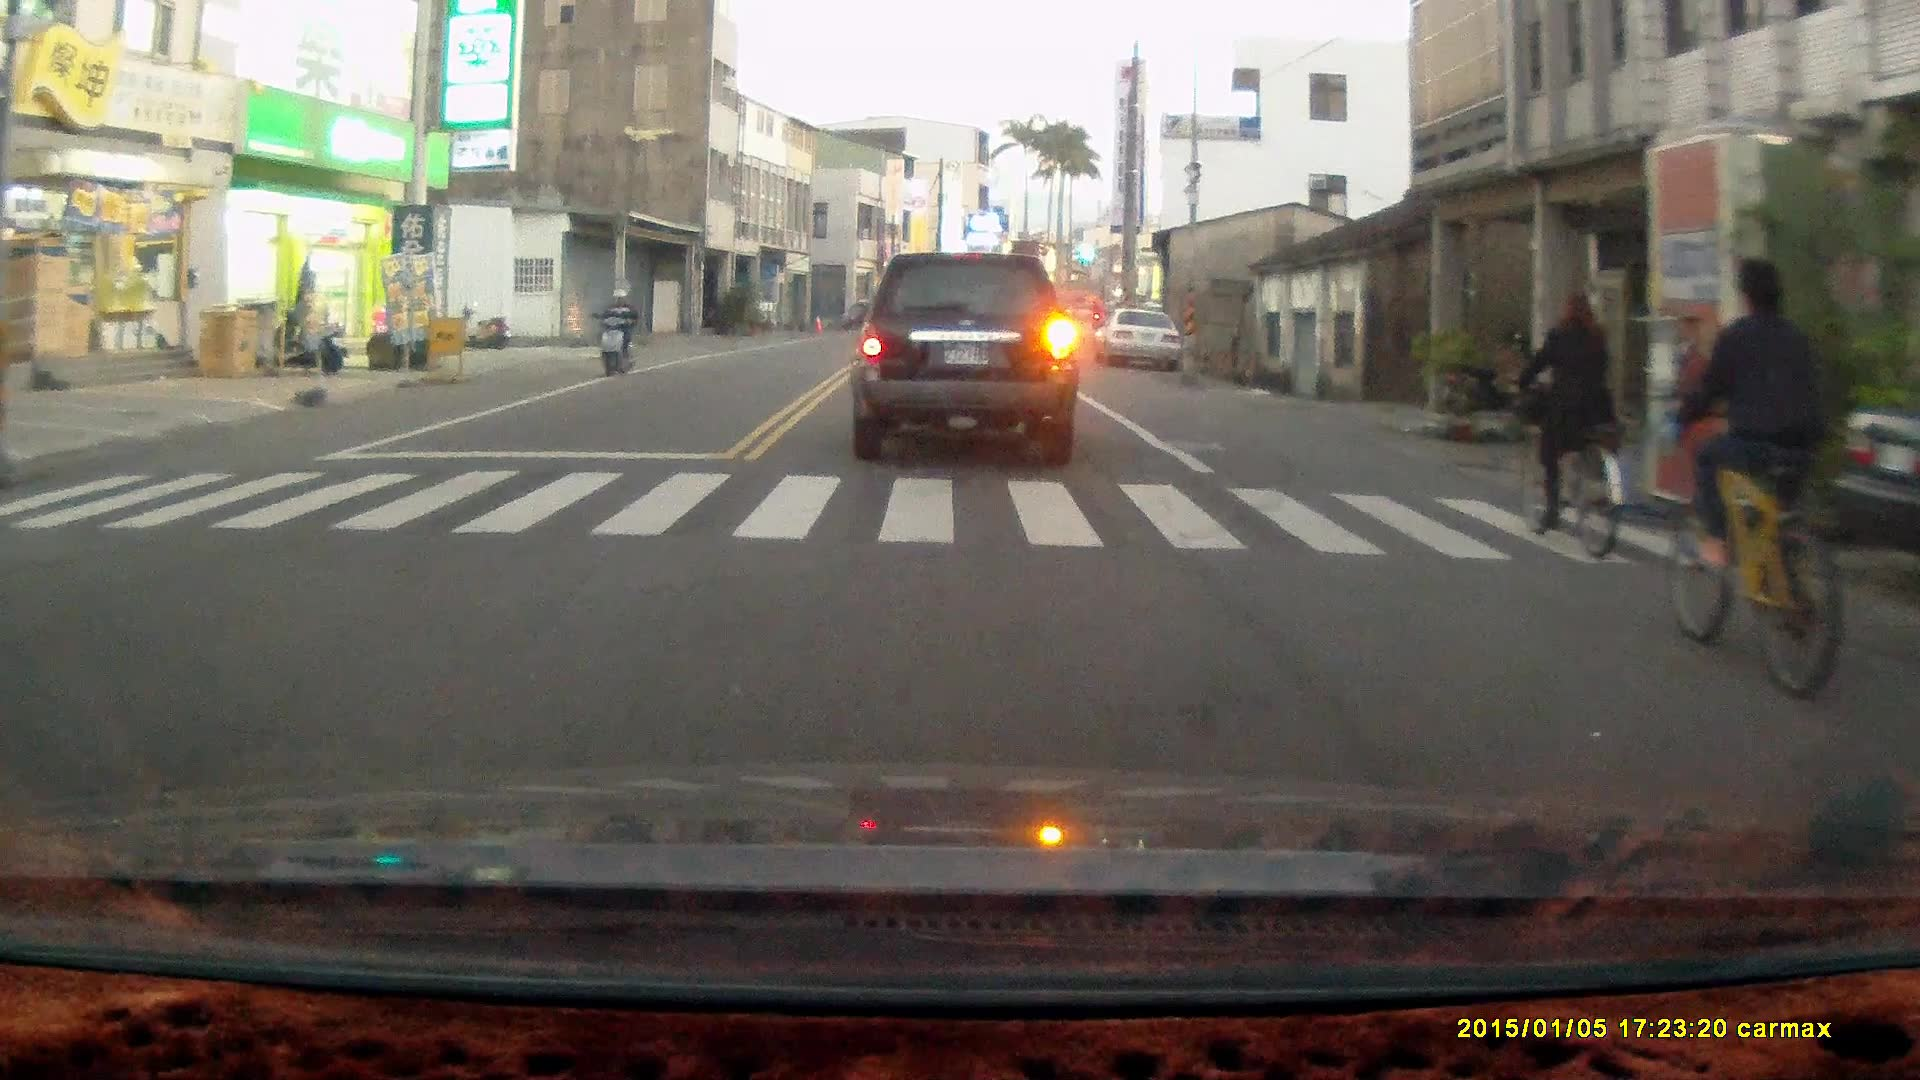rider: (1663, 253, 1853, 704), (1500, 284, 1631, 562), (592, 283, 639, 378)
vehicle: (851, 248, 1083, 465), (1829, 401, 1920, 558), (1100, 311, 1184, 371)
